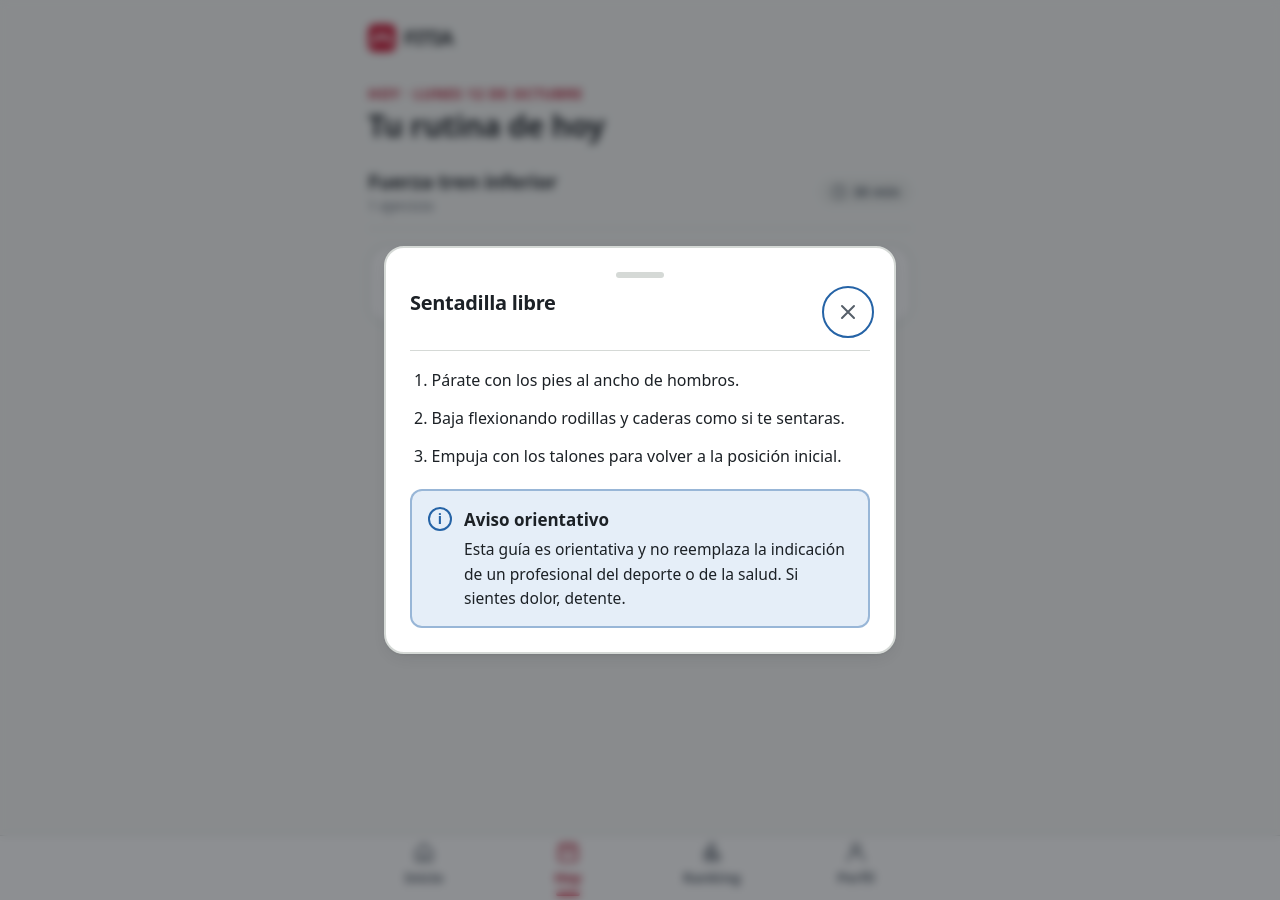
Test: HU 13 — Explicación de ejercicios (bottom sheet) › AC-13-3: cerrar con botón X cierra la hoja y remueve el search param
Expected: the dialog is shown, [384,246,896,654]
Note: Cerrar con el botón cerrar
What coordinates should you click on to do the following:
click the button named "Cerrar explicación"
I would click on:
 (848, 312)
Its box is [826,290,870,334].
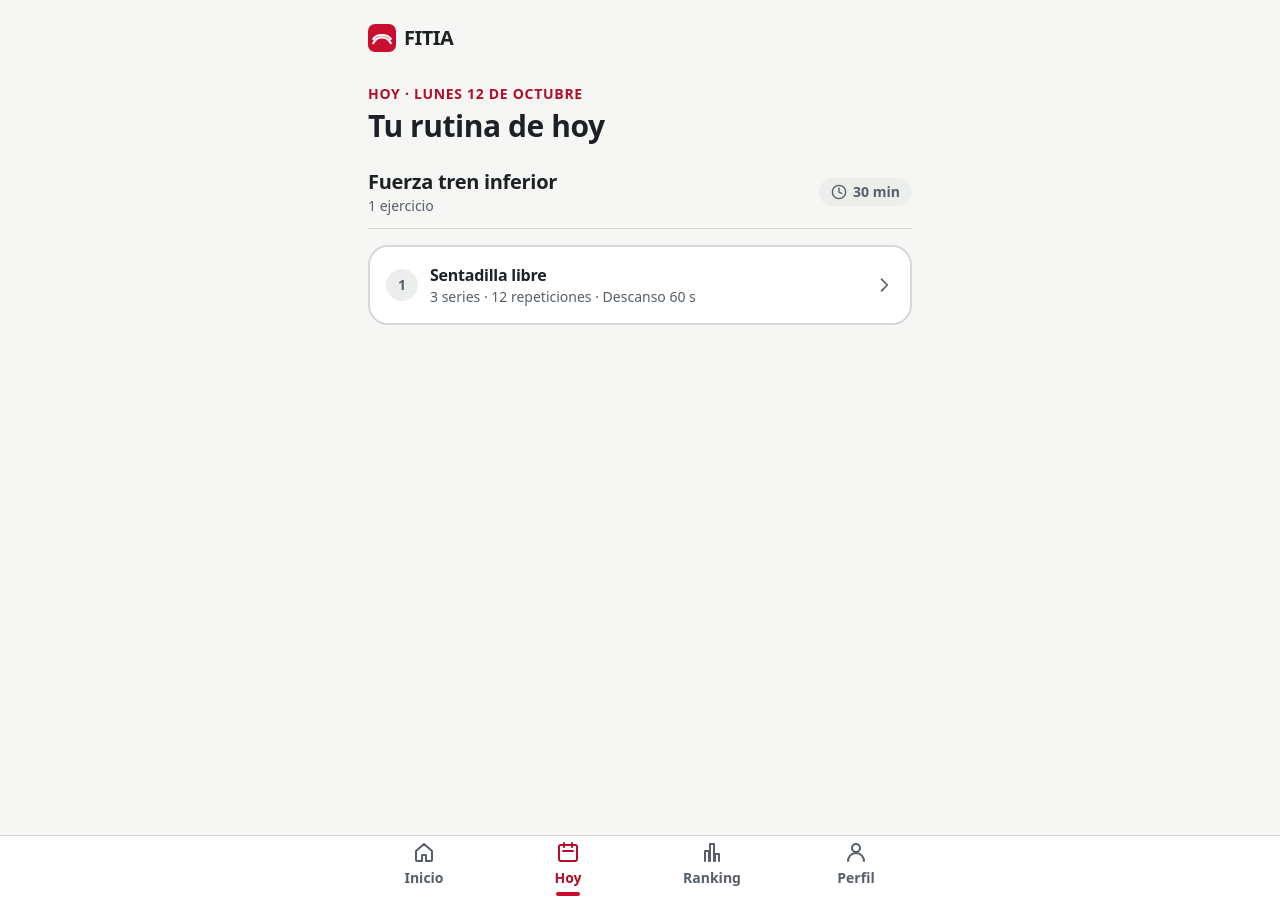
Expected: the heading "Sentadilla libre" is shown, [430,264,546,286]
Now the dialog is gone
